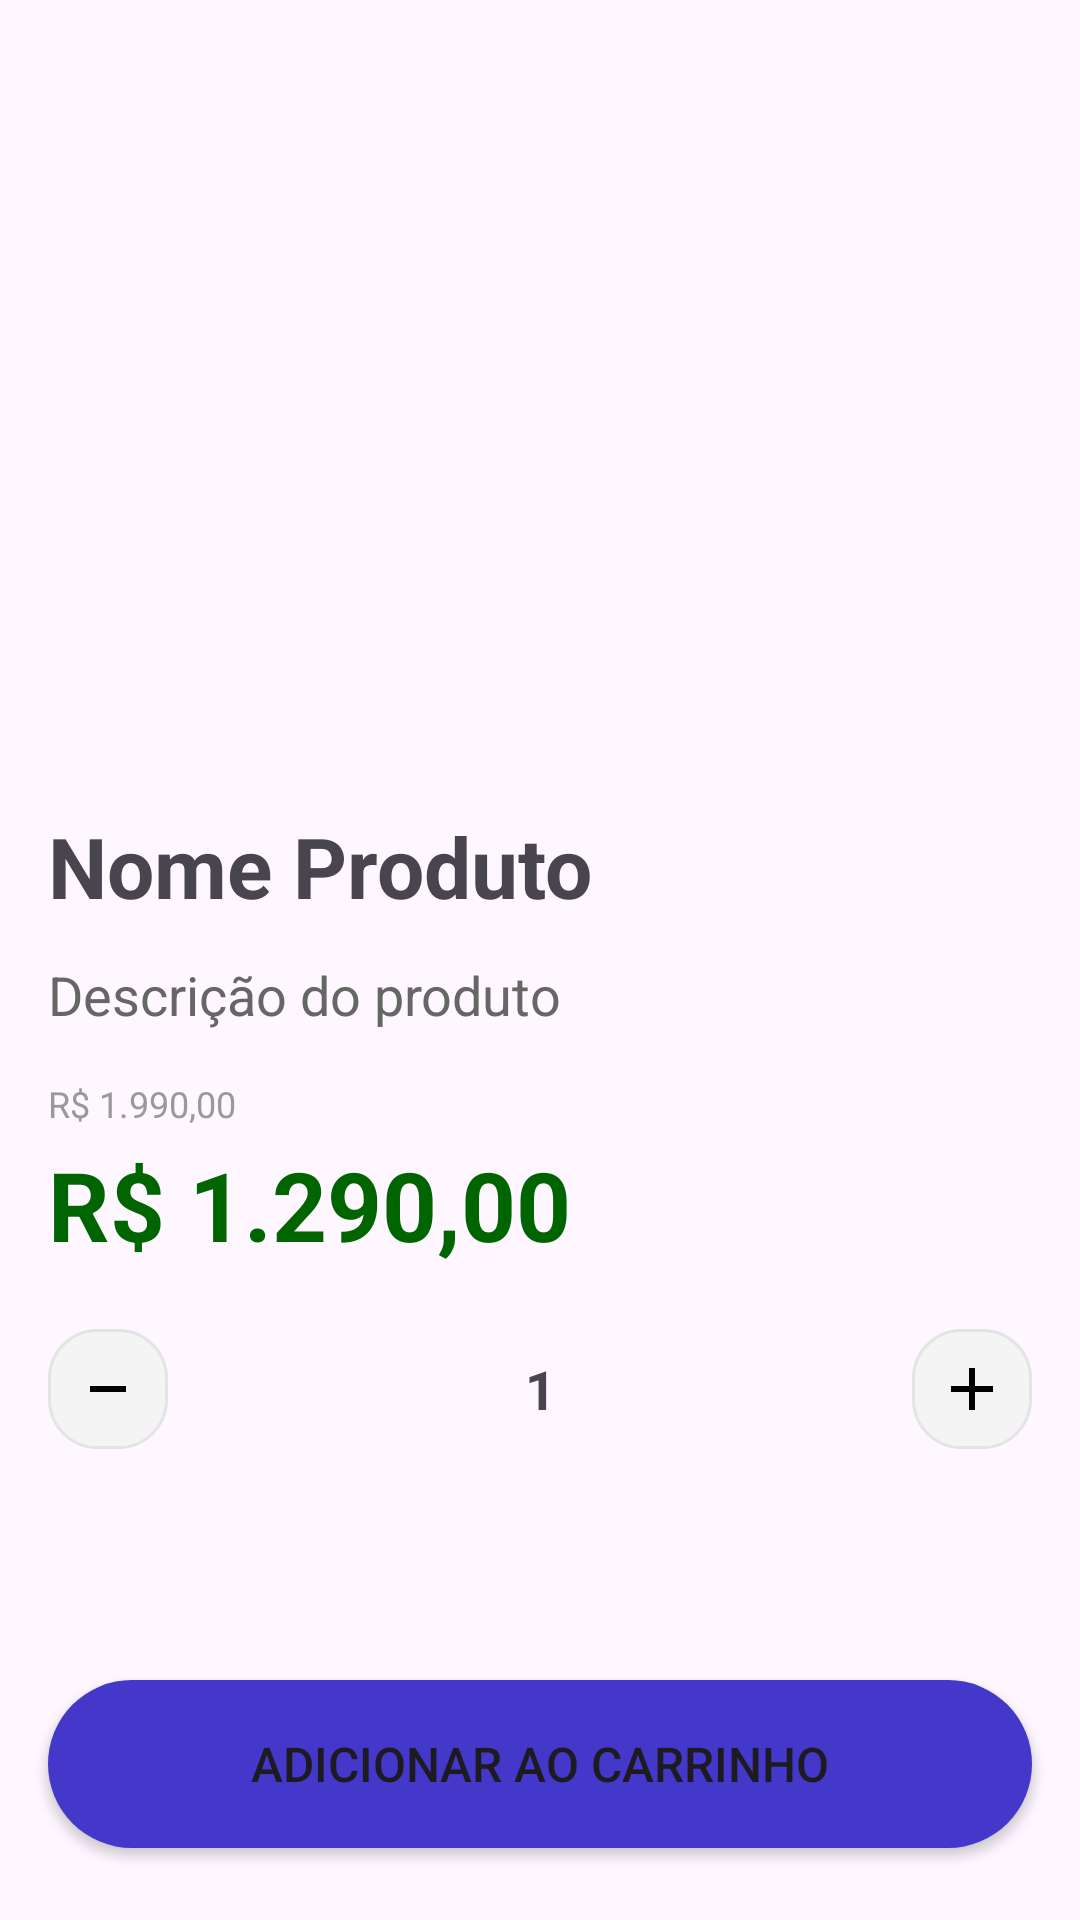

Point at icon controls on the screen. Image size 1080×1920, points as point (x, y).
add: point (972, 1389)
check indeterminate: point (108, 1389)
